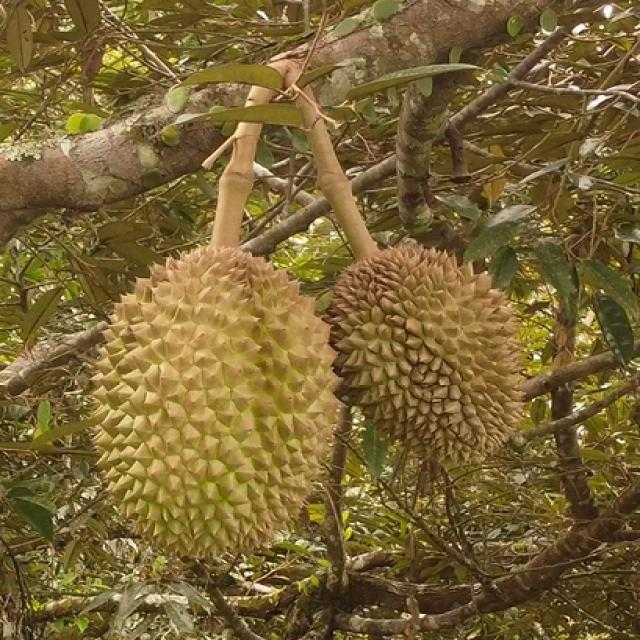mature: (84, 240, 344, 554), (319, 242, 526, 465)
